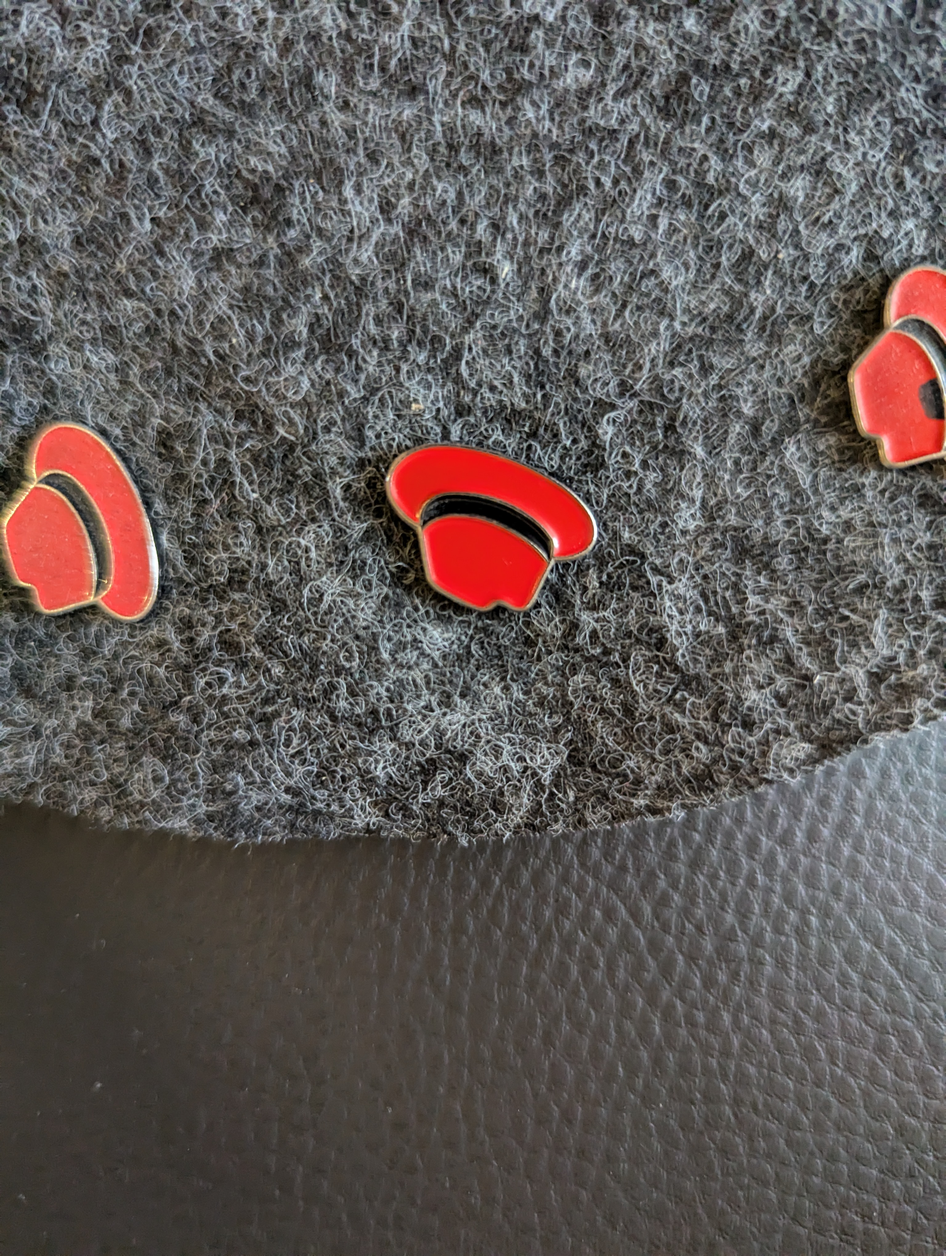Red-Hat: (325, 387, 656, 695), (0, 387, 209, 657), (786, 202, 946, 537)
Scratch: (895, 351, 946, 457)
